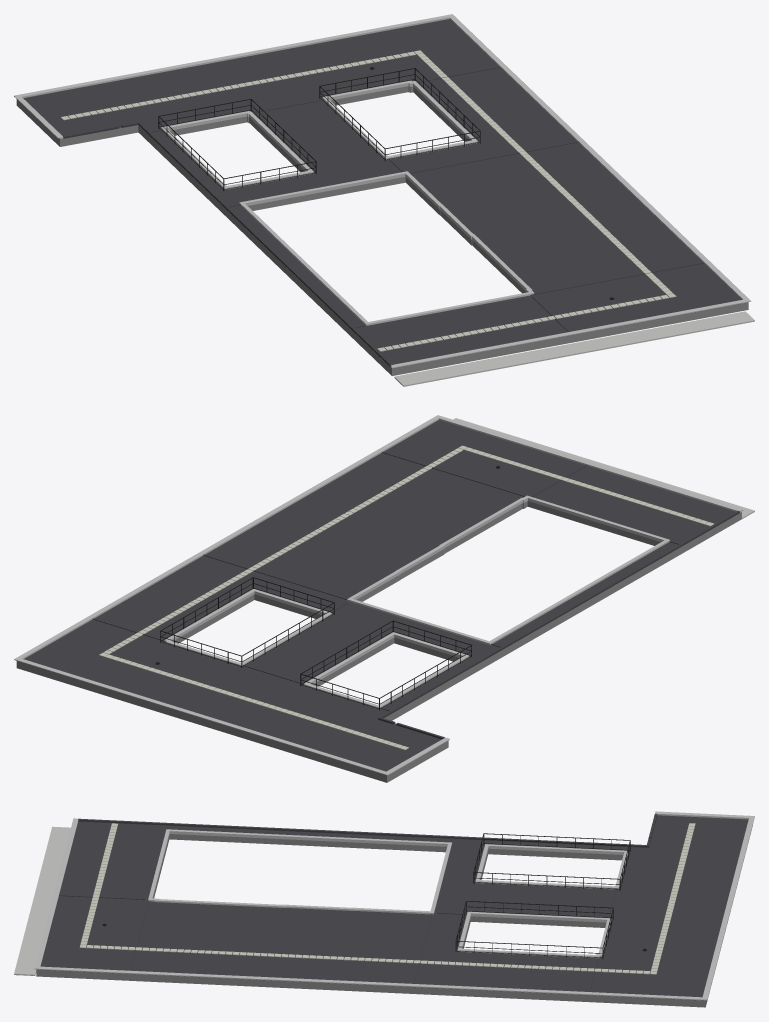
The model's file is tib_anbau.glb.
3 renders of one model, top to bottom at view 1: azimuth 30°, elevation 25°; view 2: azimuth 150°, elevation 25°; view 3: azimuth 270°, elevation 25°, orthographic. The views are drawn at different scales.
Parts seen in each view (by area): view 1: tib_anbau__TIB Farbe 196-196-190; view 2: tib_anbau__TIB Farbe 196-196-190; view 3: tib_anbau__TIB Farbe 196-196-190.
Boxes of the visible parts, left/top/right/bottom form: tib_anbau__TIB Farbe 196-196-190: left=14, top=14, right=754, bottom=386; tib_anbau__TIB Farbe 196-196-190: left=14, top=415, right=754, bottom=782; tib_anbau__TIB Farbe 196-196-190: left=14, top=811, right=754, bottom=1007.
Size of the model in its own units: 35.18 by 1.71 by 58.49.
Materials: 1 (1 with a texture image).
